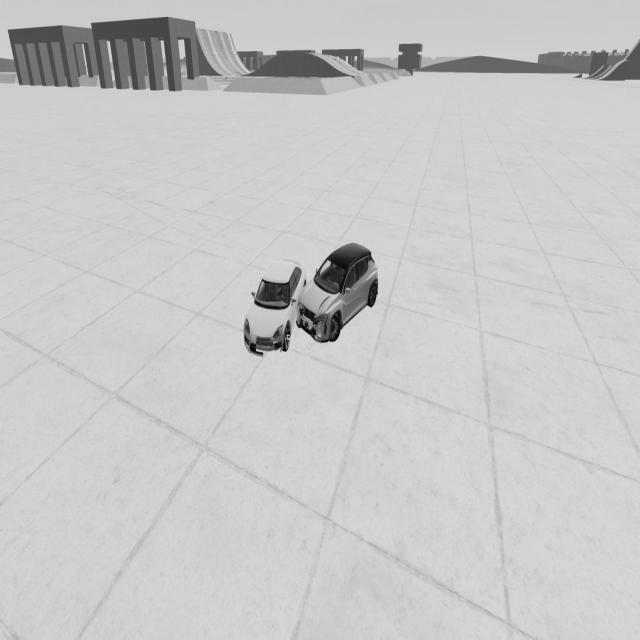accident: (242, 238, 381, 356)
